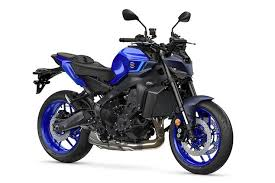motorcycle: (33, 6, 235, 173)
